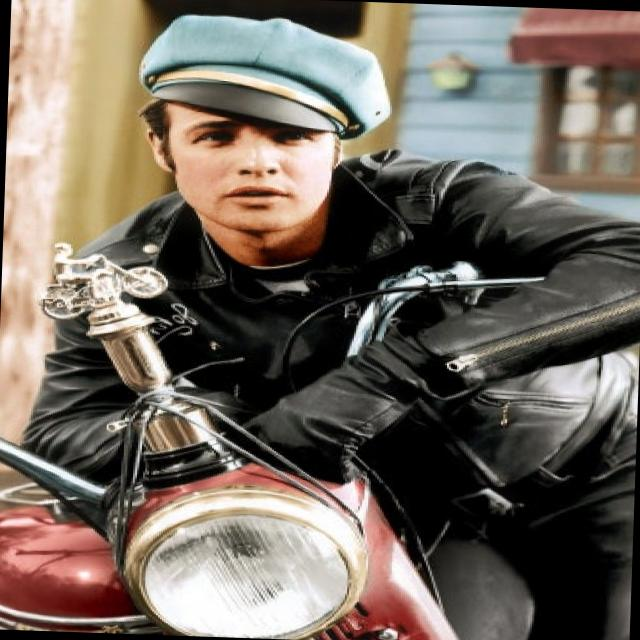Jacket: (0, 118, 639, 558)
